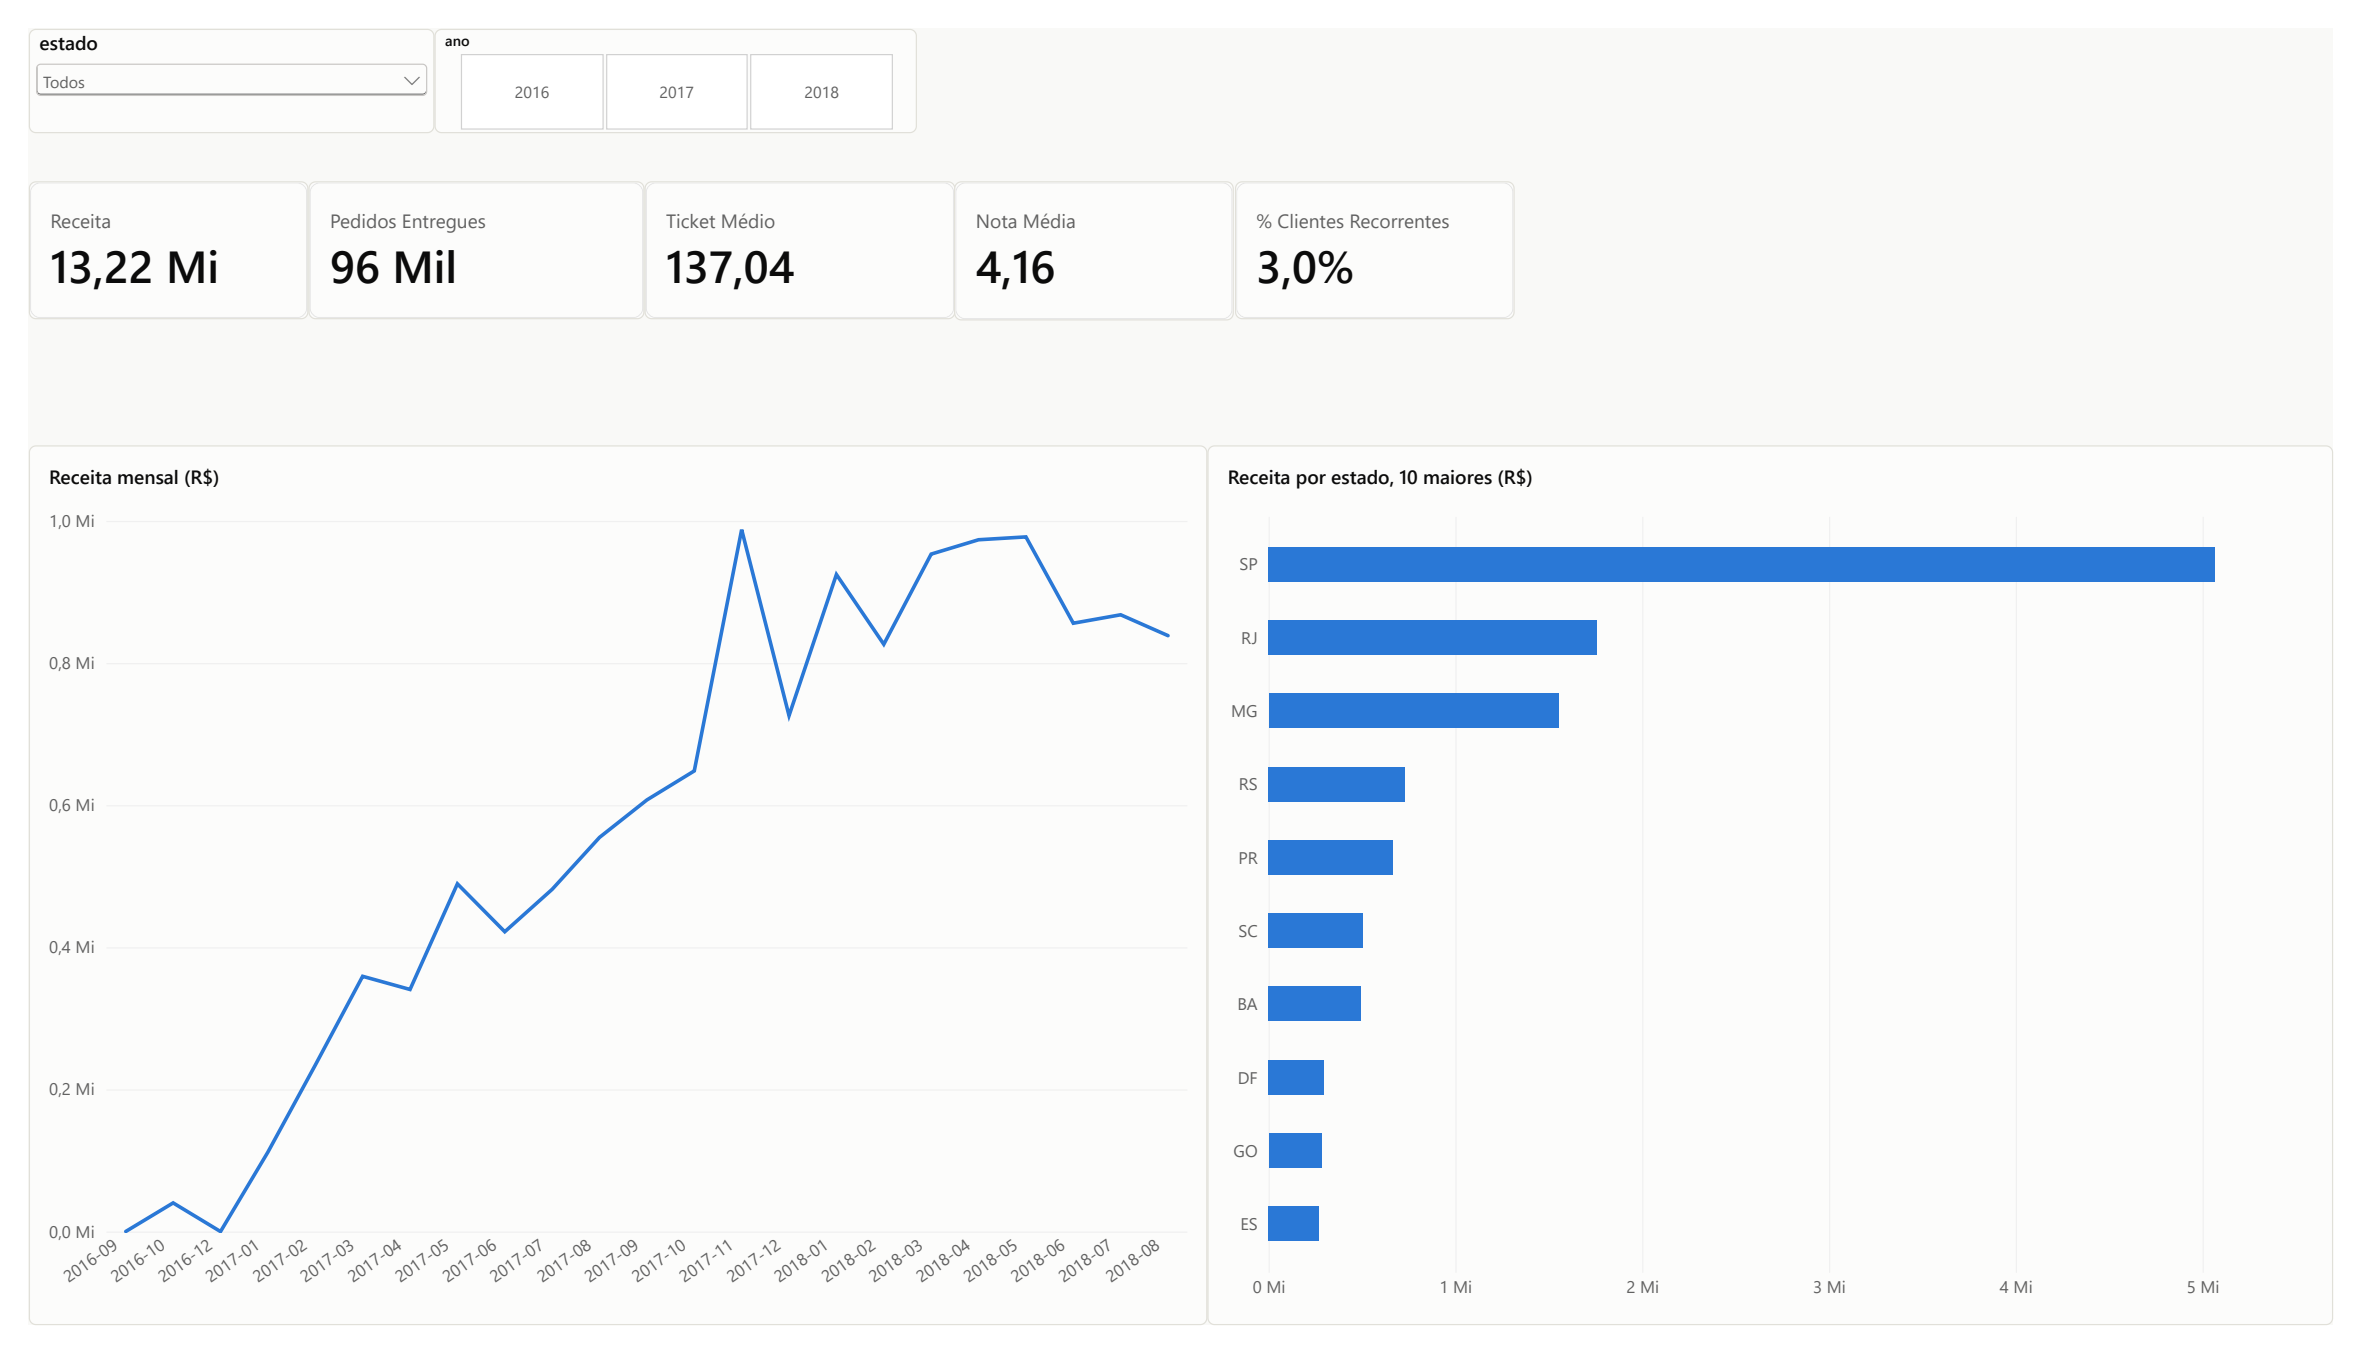

The dashboard page shown, as its layout file describes it:
{"tool":"powerbi","page":{"name":"Visao Geral","canvas":[1920,1080],"ordinal":0},"visuals":[{"type":"cardVisual","fields":{"Data":["Medidas.Pedidos Entregues"]},"box":[233.3,126.7,280,115],"z":0},{"type":"cardVisual","fields":{"Data":["Medidas.Receita"]},"box":[0,127,233.3,115],"z":1000},{"type":"cardVisual","fields":{"Data":["Medidas.Ticket Médio"]},"box":[513.3,126.7,258.3,115],"z":2000},{"type":"slicer","fields":{"Values":["dim_data.ano"]},"box":[338.3,0,401.7,86.7],"z":3000},{"type":"slicer","fields":{"Values":["dim_cliente.estado"]},"box":[0,0,338.3,86.7],"z":4000},{"type":"cardVisual","fields":{"Data":["Medidas.% Clientes Recorrentes"]},"box":[1005,126.7,233.3,115],"z":5000},{"type":"cardVisual","fields":{"Data":["Medidas.Nota Média"]},"box":[771.4,127.1,232.9,115.7],"z":6000},{"type":"lineChart","title":"Receita mensal (R$)","fields":{"Category":["dim_data.ano_mes"],"Y":["Medidas.Receita"]},"box":[0,346.7,981.7,733.3],"z":7000},{"type":"barChart","title":"Receita por estado, 10 maiores (R$)","fields":{"Category":["dim_cliente.estado"],"Y":["Medidas.Receita"]},"box":[981.7,346.7,938.3,733.3],"z":8000}]}

Visuals, with their boxes in screenshot pixels (x1, y1, x2, y2), scaled from the page's 1920x1080 canvas onto the 2362x1354 screenshot:
cardVisual - Medidas.Pedidos Entregues: (287, 159, 631, 303)
cardVisual - Medidas.Receita: (0, 159, 287, 303)
cardVisual - Medidas.Ticket Médio: (631, 159, 949, 303)
slicer - dim_data.ano: (416, 0, 910, 109)
slicer - dim_cliente.estado: (0, 0, 416, 109)
cardVisual - Medidas.% Clientes Recorrentes: (1236, 159, 1523, 303)
cardVisual - Medidas.Nota Média: (949, 159, 1235, 304)
"Receita mensal (R$)" lineChart: (0, 435, 1208, 1353)
"Receita por estado, 10 maiores (R$)" barChart: (1208, 435, 2361, 1353)
